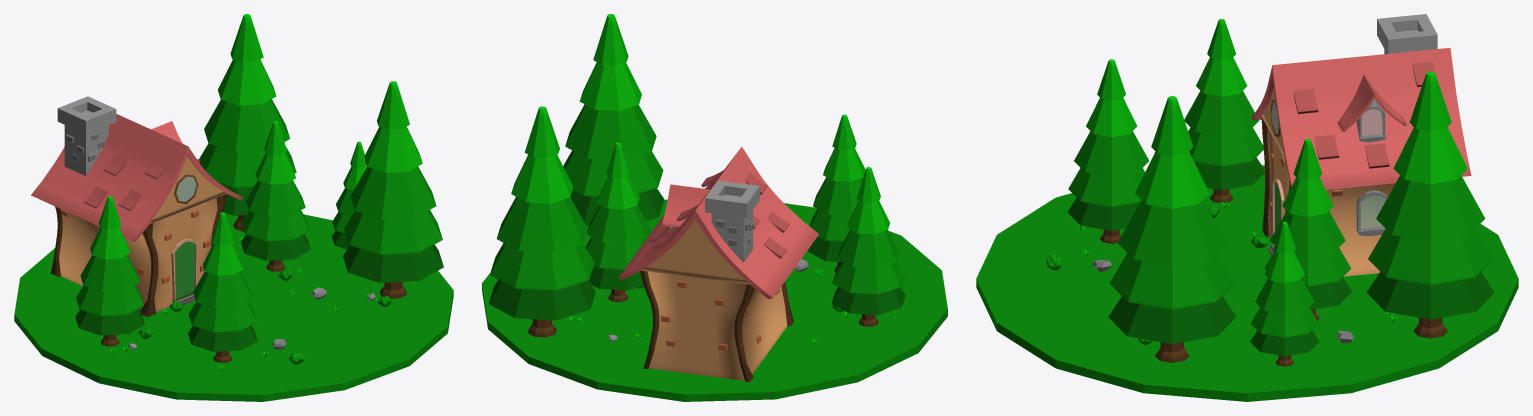
The model's file is Tempat Alyssia.fbx.
3 renders of one model, left to right at view 1: azimuth 30°, elevation 25°; view 2: azimuth 150°, elevation 25°; view 3: azimuth 270°, elevation 25°, orthographic. The views are drawn at different scales.
Parts seen in each view (by area): view 1: Tempat Fairy; view 2: Tempat Fairy; view 3: Tempat Fairy.
Boxes of the visible parts, <box> form: Tempat Fairy: <box>14,14,453,401</box>; Tempat Fairy: <box>482,14,947,401</box>; Tempat Fairy: <box>976,14,1518,401</box>.
Size of the model in its own units: 4211 by 2282 by 4211.
